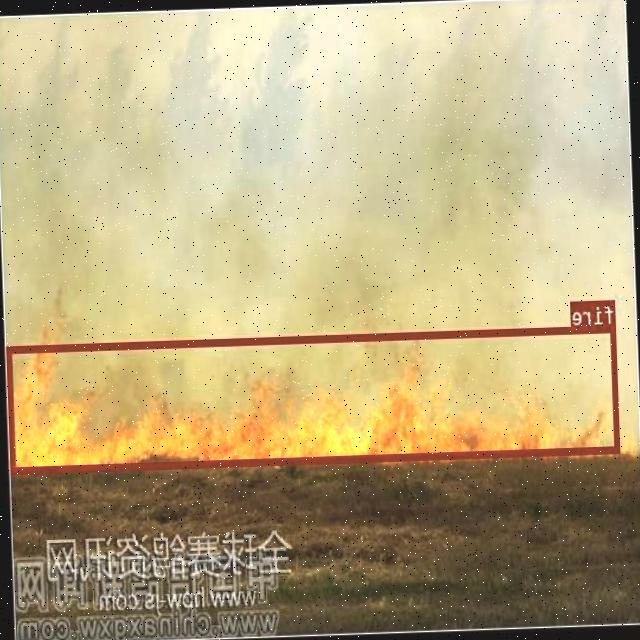fire: (7, 323, 621, 472)
